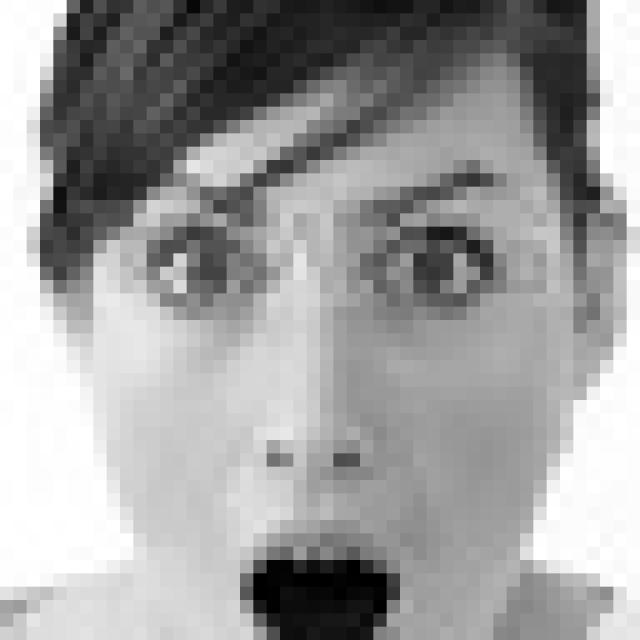surprise: (126, 161, 517, 640)
